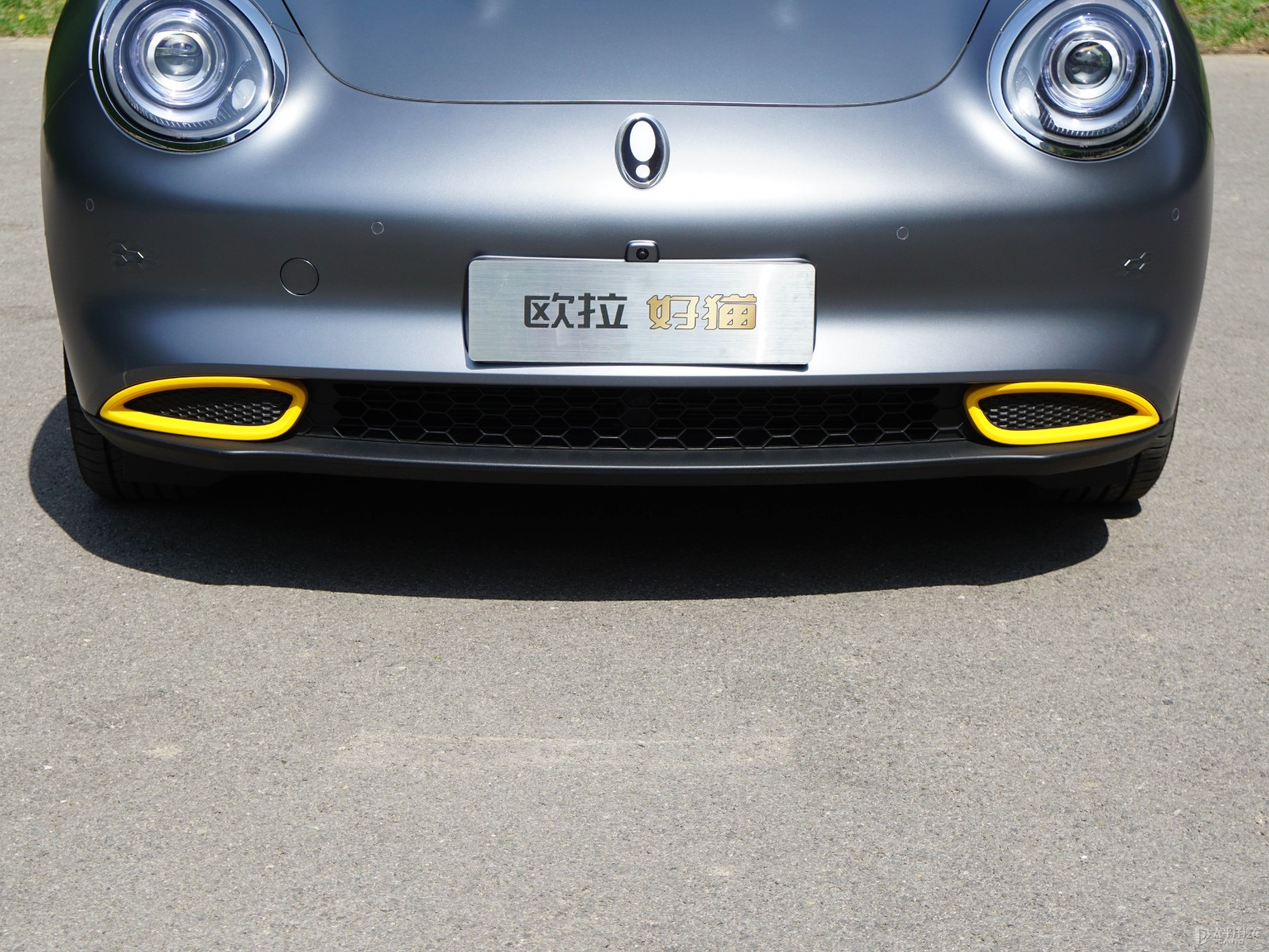ORA: (617, 114, 668, 188)
